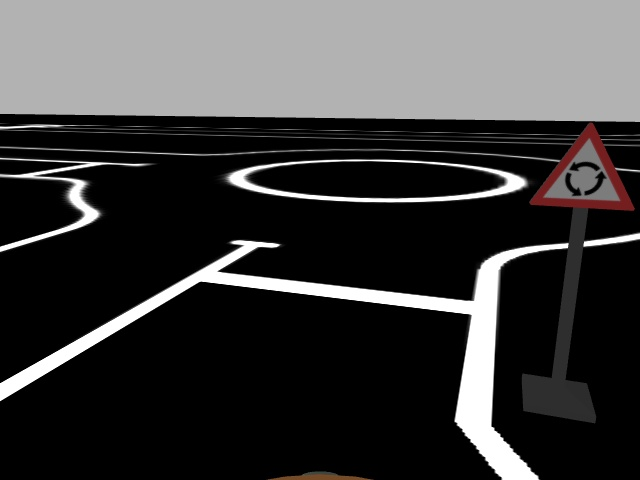roundabout: (529, 122, 635, 211)
